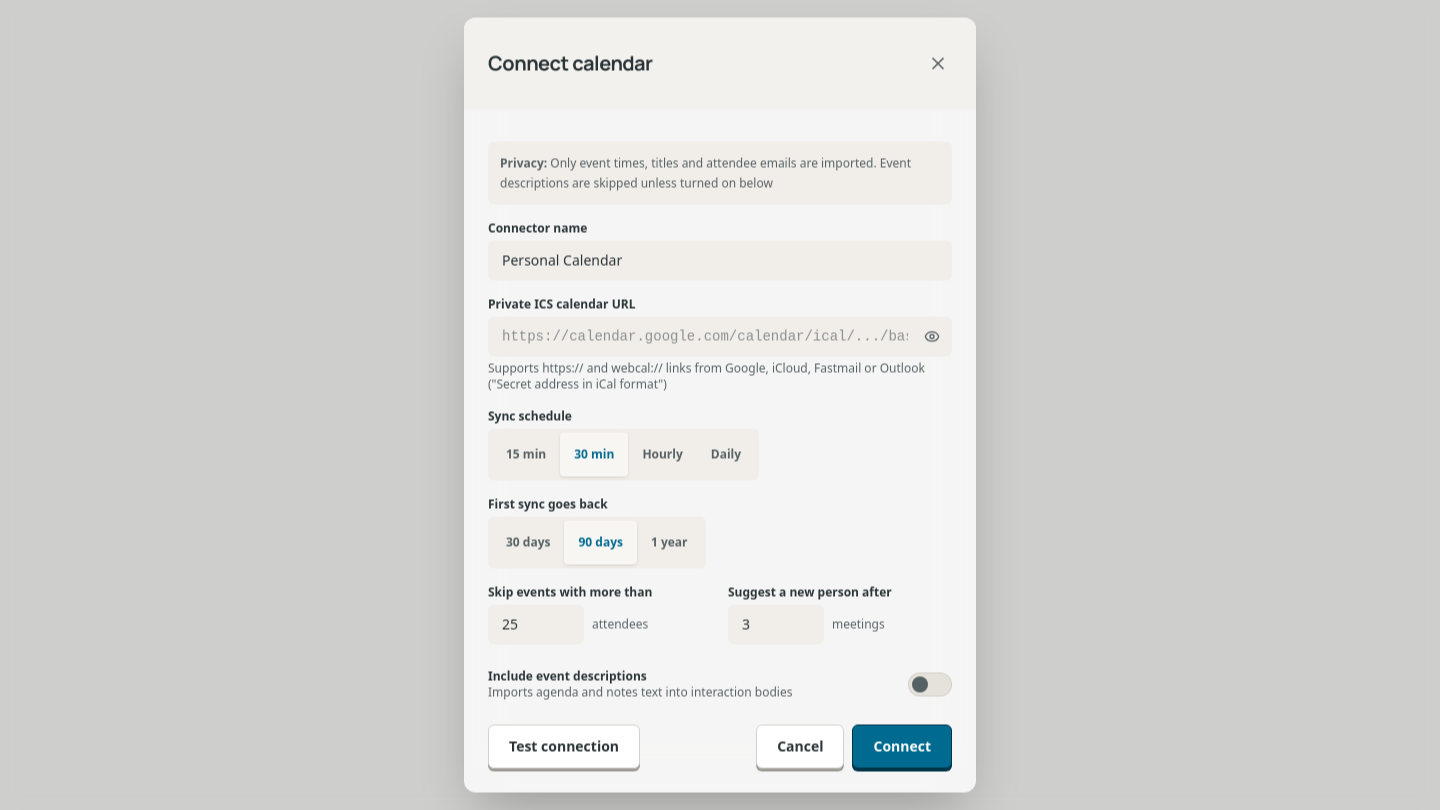
Test: Frontend Connectors Components › CalendarFormModal › displays error when clicking test connection with empty URL
Click the button "Test connection" at (564, 746), box [488,724,640,768]
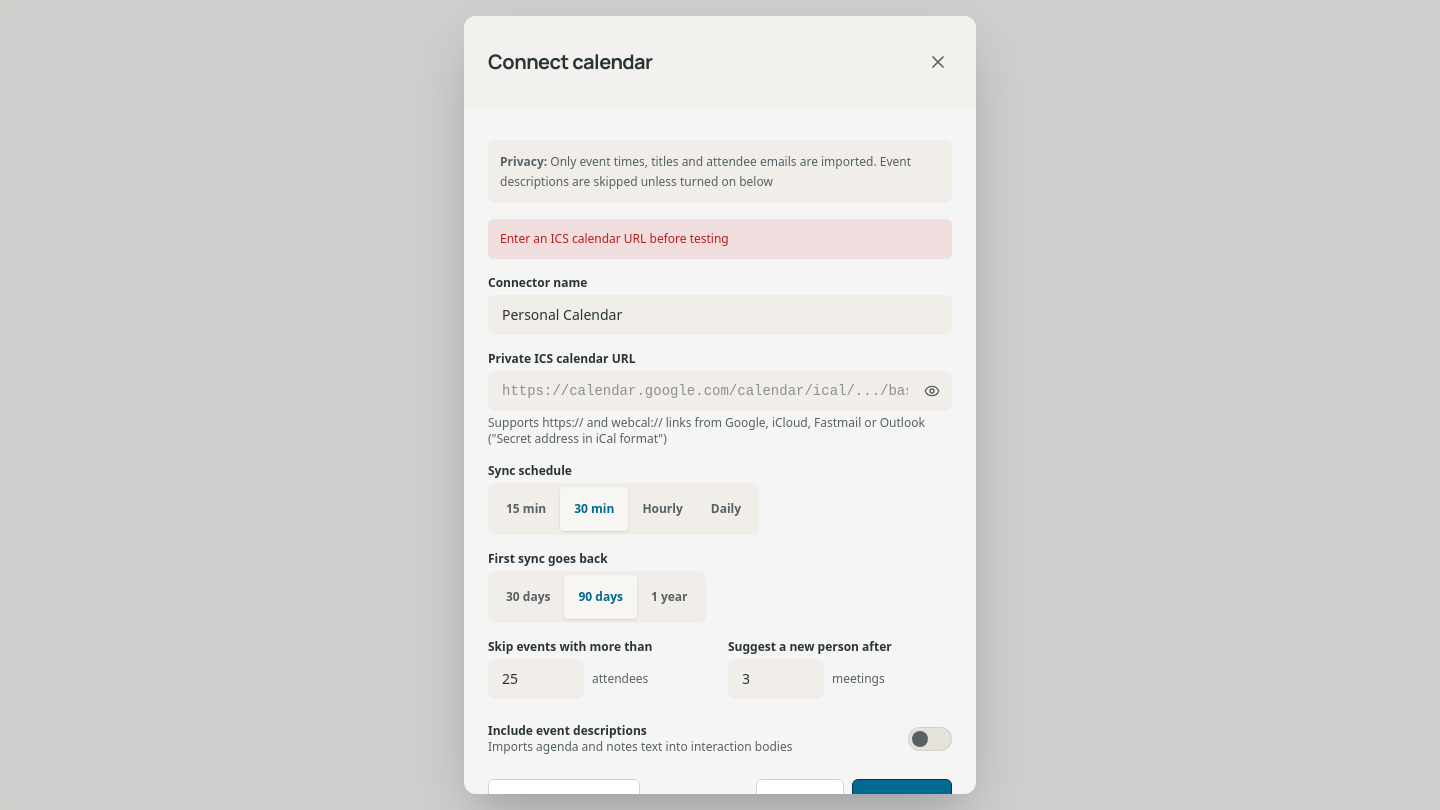
expect the text "Enter an ICS calendar URL before testing" is shown: met, box [488,219,952,259]
